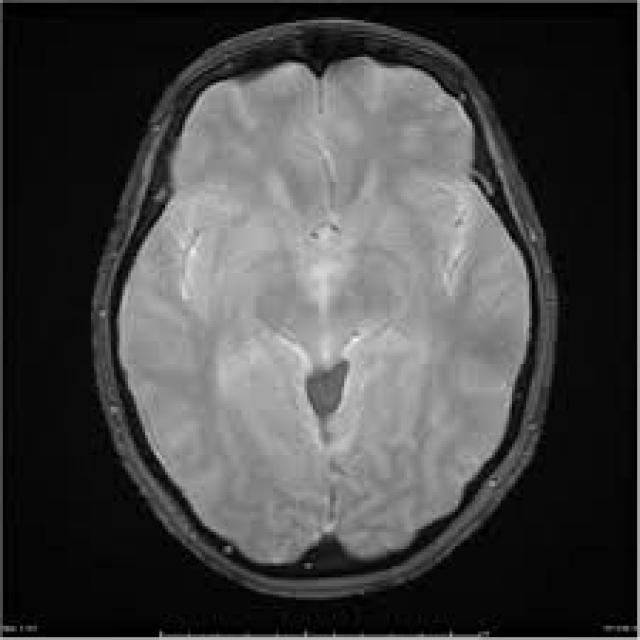No_Tumor: (93, 20, 556, 597)
